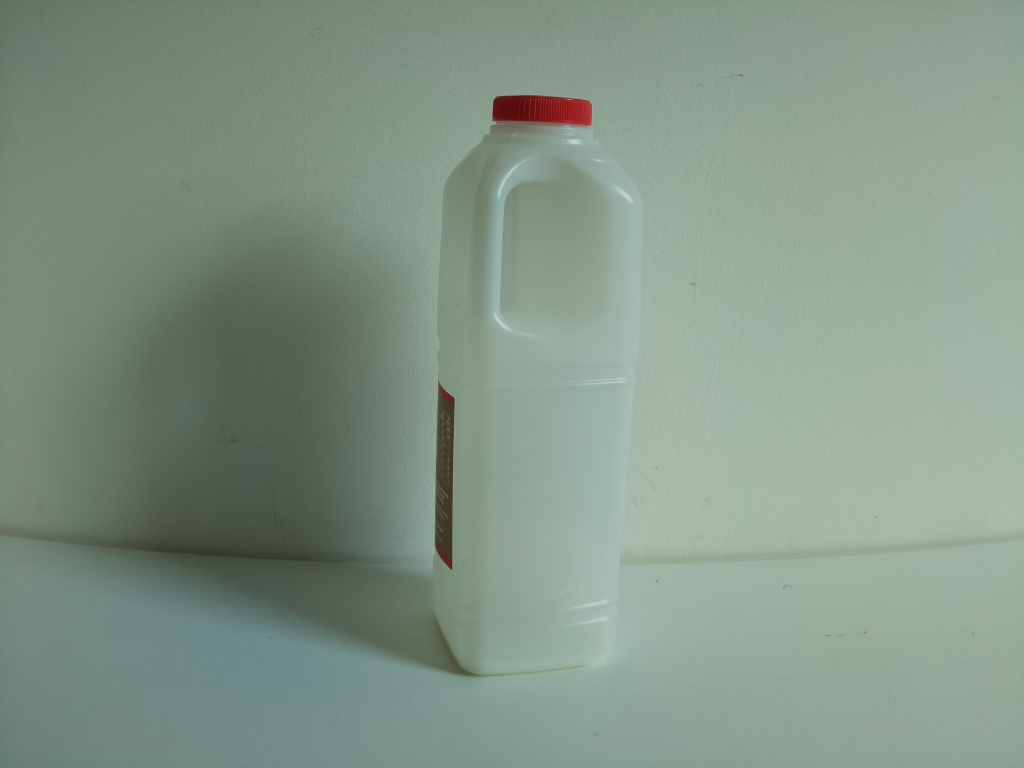milk: (429, 91, 649, 684)
